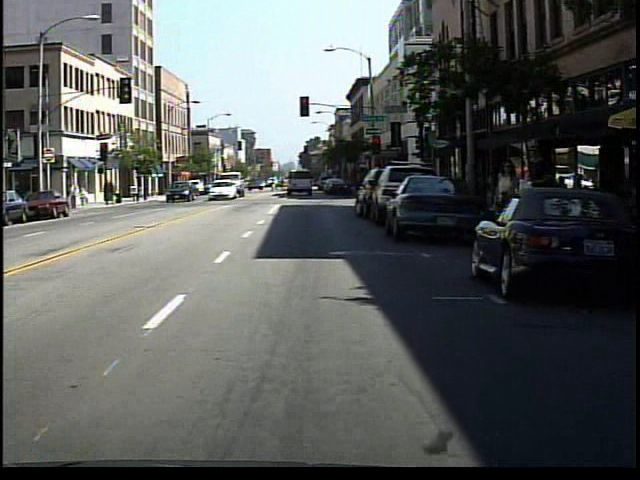person: (524, 136, 560, 263), (495, 155, 522, 259), (69, 179, 84, 212), (81, 183, 95, 209)
